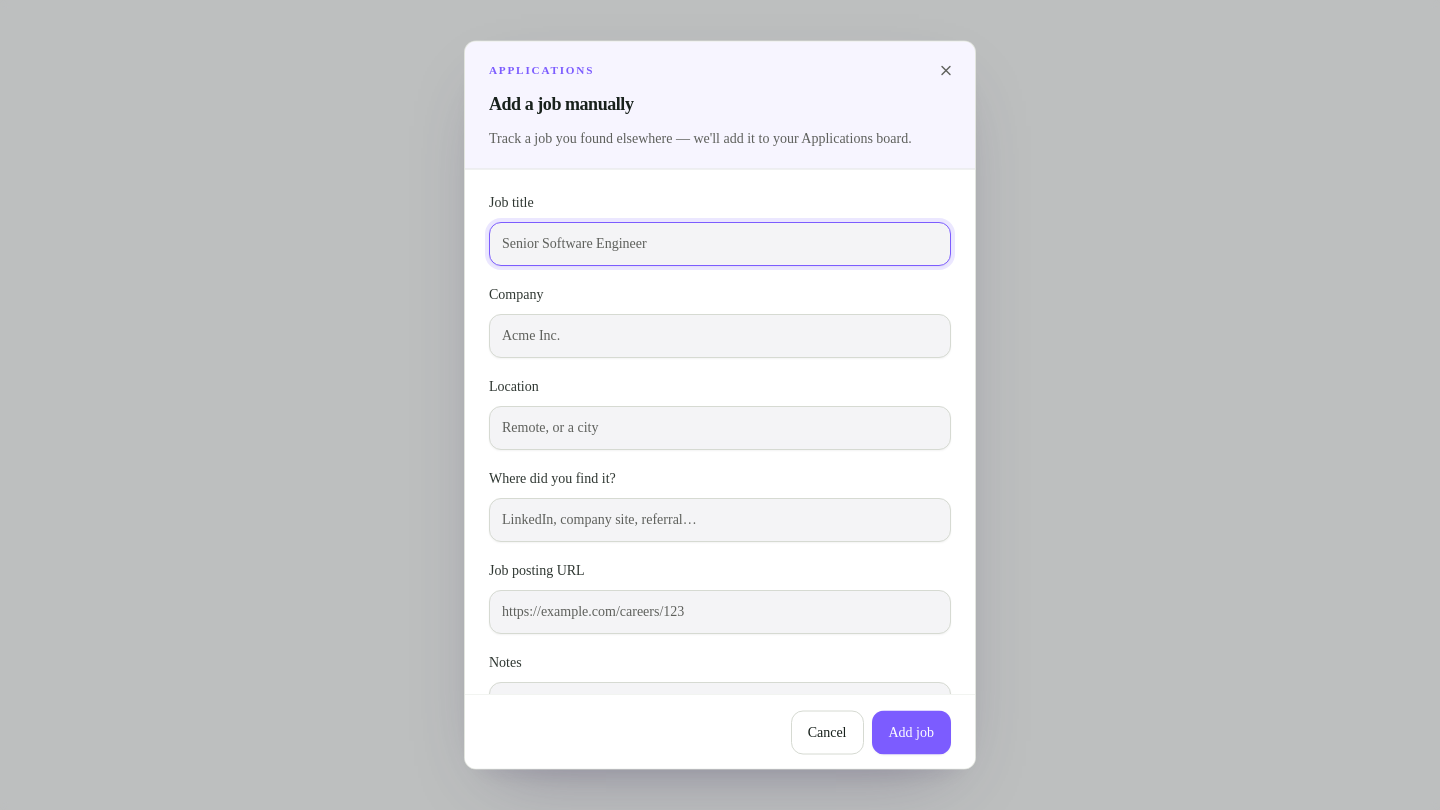
it: AddManualJobDialog › blocks submission and shows an inline error when title/company are empty
This screenshot has width=1440, height=810.
Click the button "Add job": coordinates (911, 732) 872,710 -> 951,754
(page scrolled)
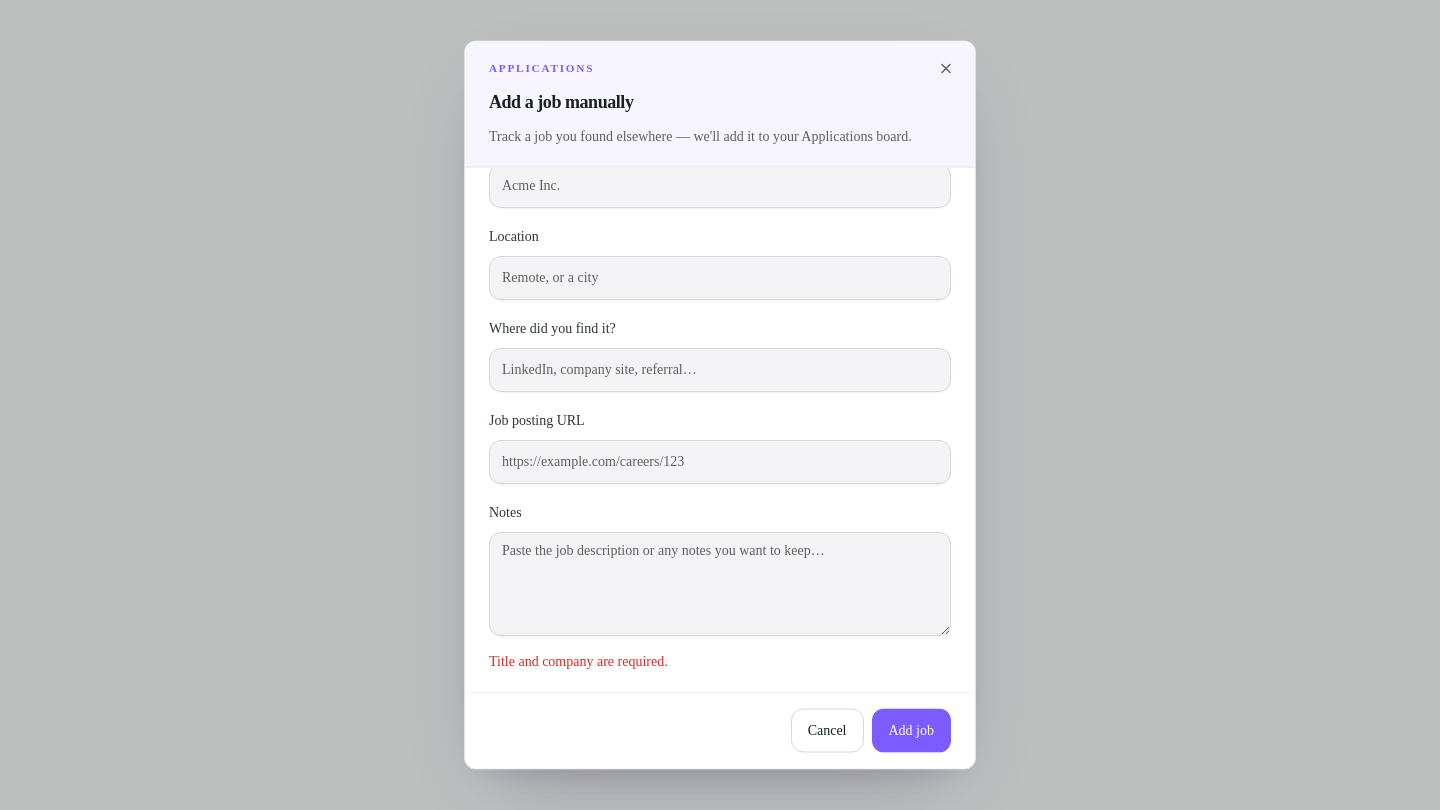
Result: the text "Title and company are required." is shown at 489,653 -> 668,668
